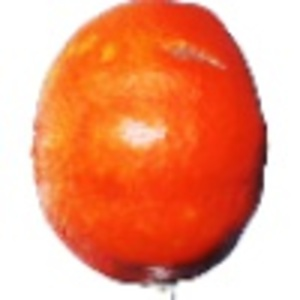tangerina: (28, 1, 272, 300)
